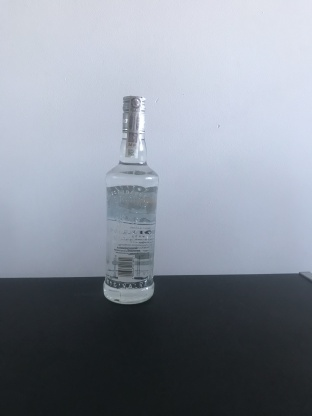nakretka: (120, 91, 147, 136)
